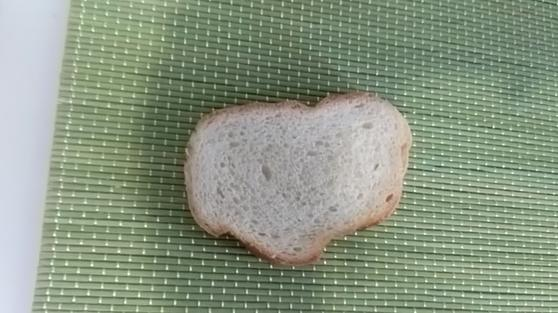white_bread: (183, 94, 411, 260)
